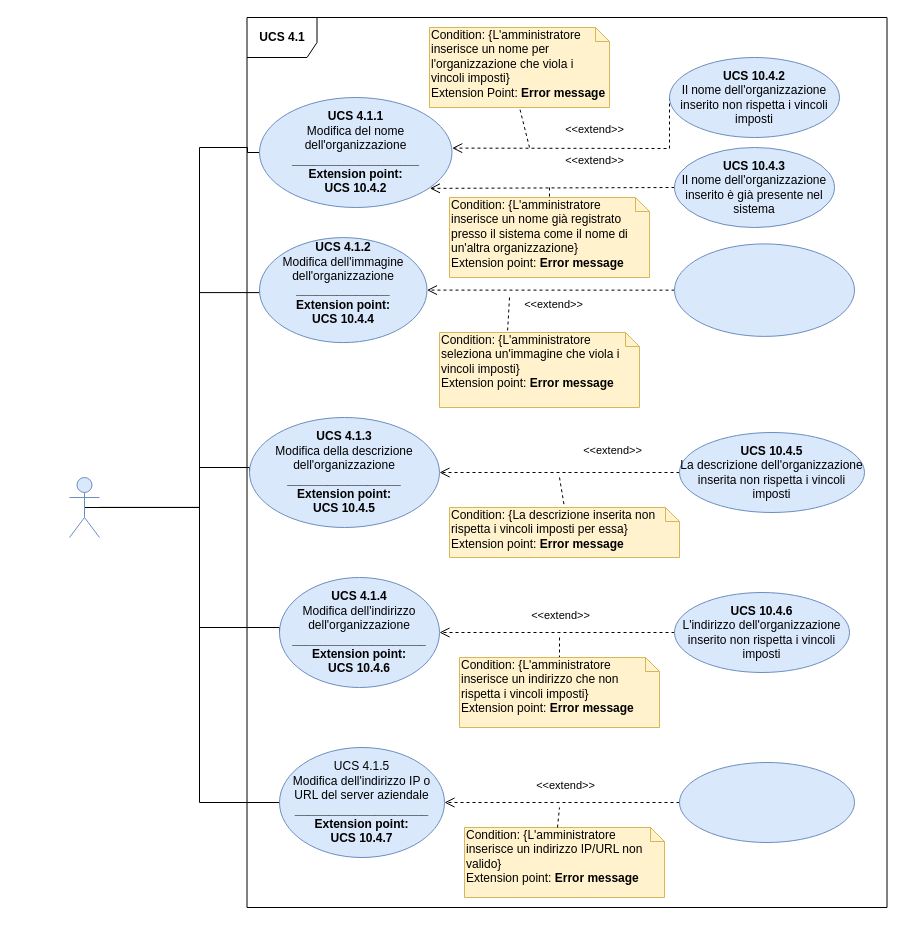
The diagram is 905 pixels wide and 925 high, and some of its shapes have lost their labels. The box of each missing label's shape, as (x1, y1, x2, y2) in pixels:
Amministratore gestore: (68, 476, 100, 538)
UCS 10.4.4 L'immagine dell'organizzazione scelta non rispetta i vincoli imposti: (674, 243, 854, 336)
UCS 10.4.7 L'indirizzo IP o URL inserito non è valido: (678, 762, 854, 842)
